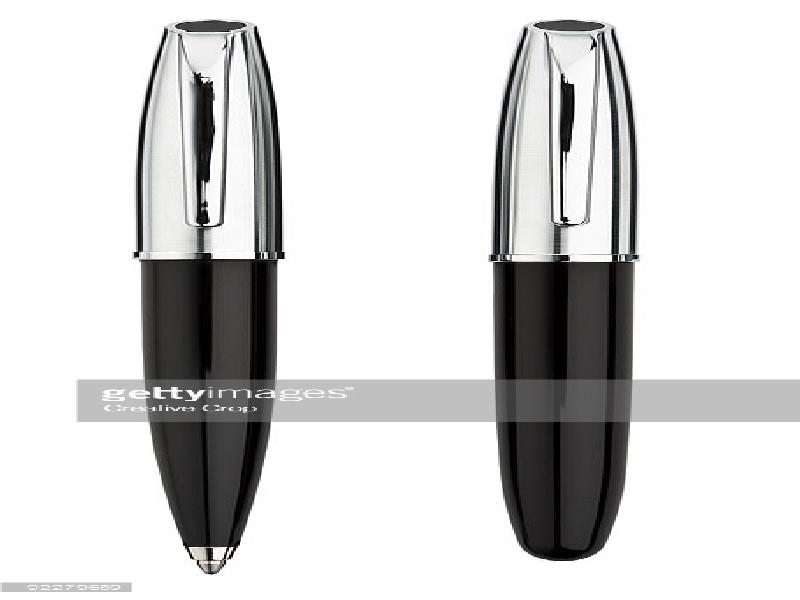pen: (119, 17, 319, 581), (484, 17, 664, 578)
